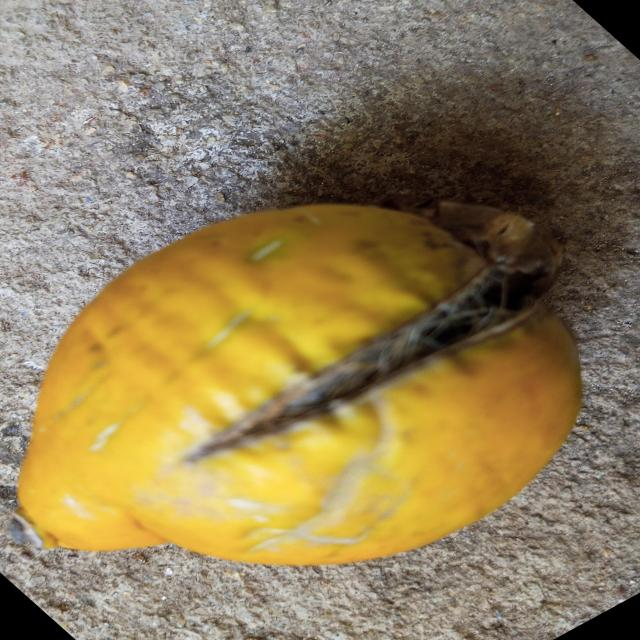damaged: (12, 201, 581, 564)
